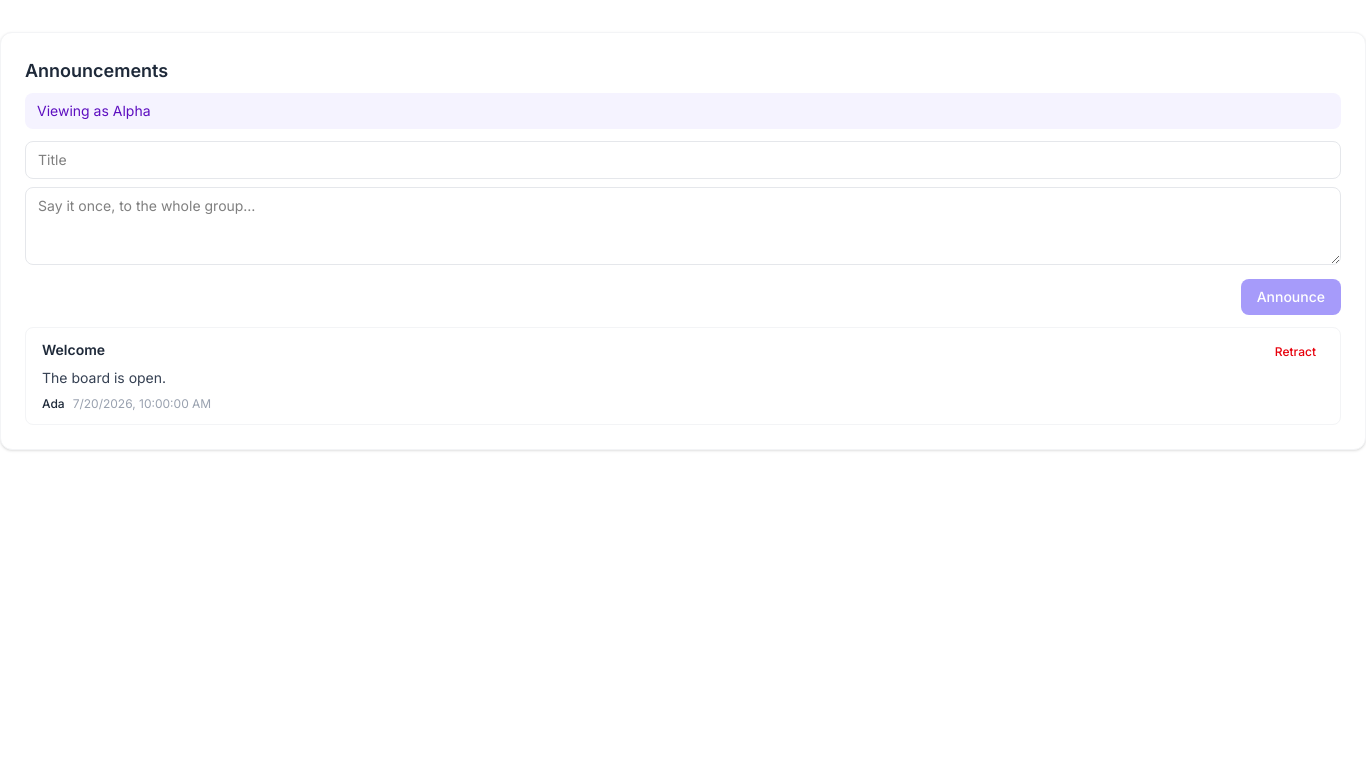
Test: GroupAnnouncementsSection — wielded render (FEAT-H048) › S2: a wielded announce confirms naming the wielding, then sends with the acting group
Expected: the heading "Welcome" is shown, [42,340,105,360]
Type "From Alpha" into the field with test id "announcement-compose-title" at (683, 160), box [25,141,1341,179]
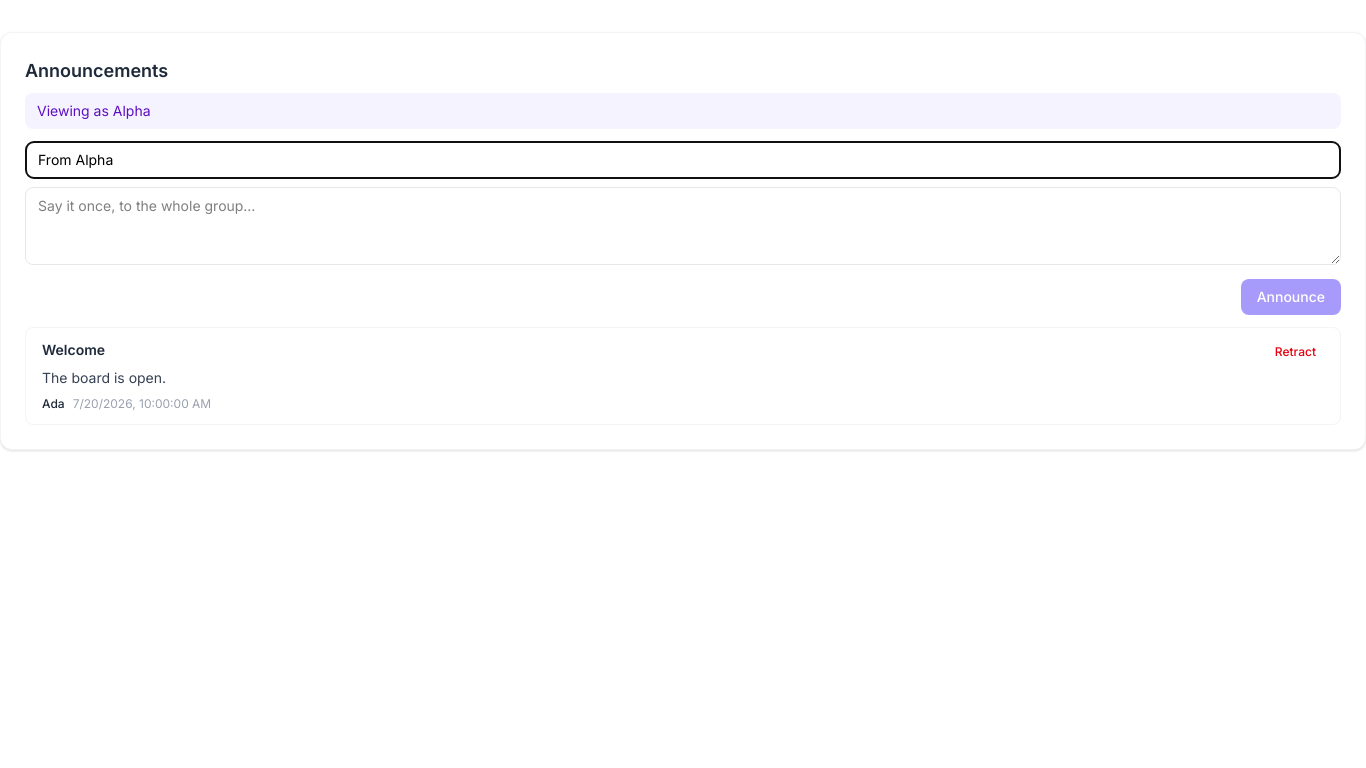
Type "Hello all." into the text box with test id "announcement-compose-body" at (683, 226), box [25,187,1341,265]
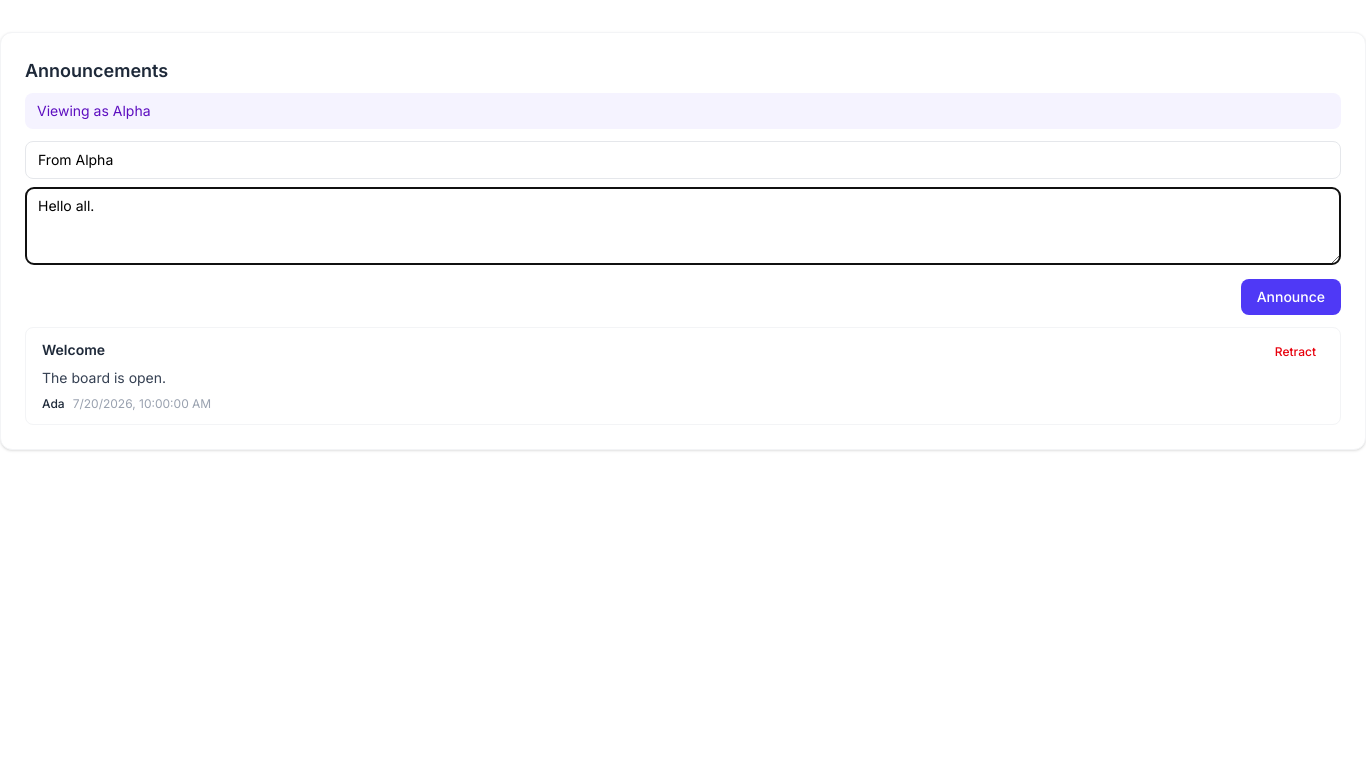
Click the button with test id "announcement-send" at (1291, 297), box [1241,279,1341,315]
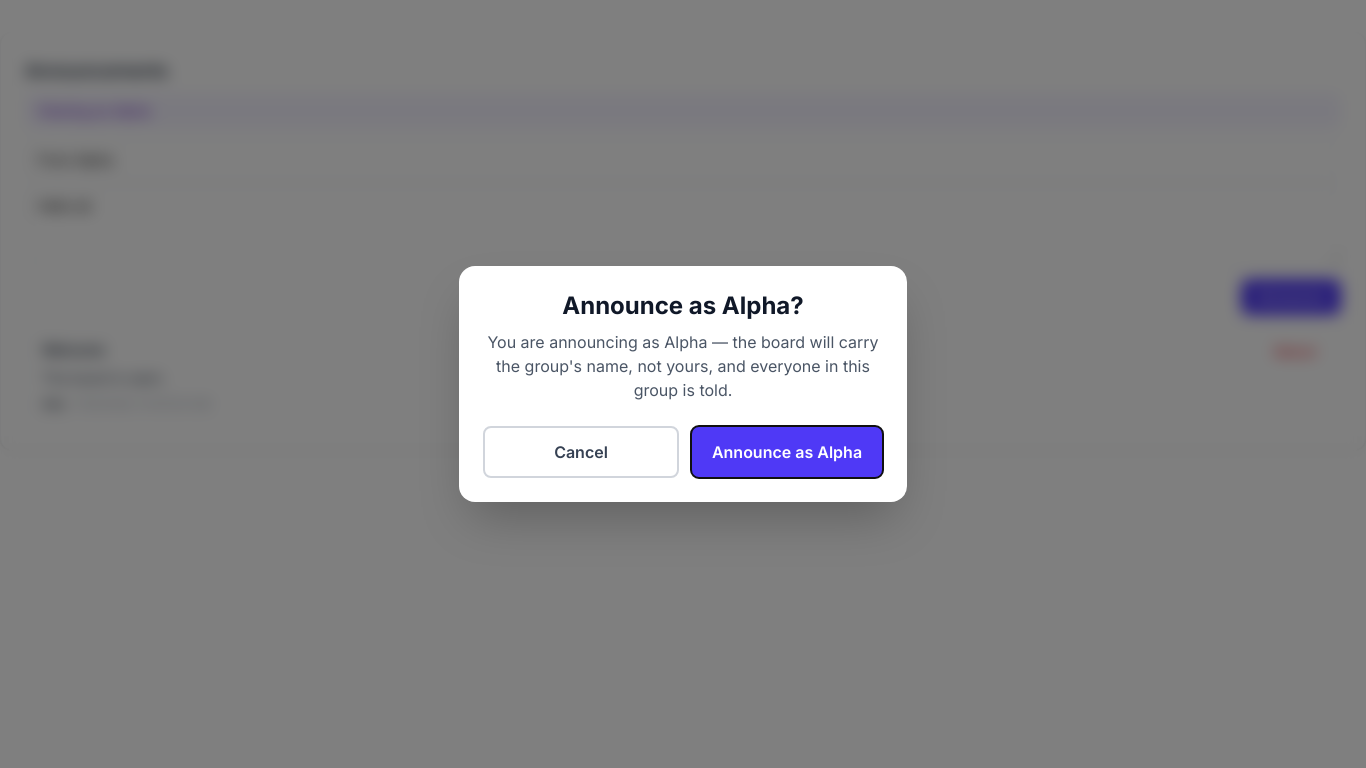
Now the text "You are announcing as Alpha" is shown, box [487,332,879,400]
Click the button "Announce as Alpha" at (787, 452), box [691,426,883,478]
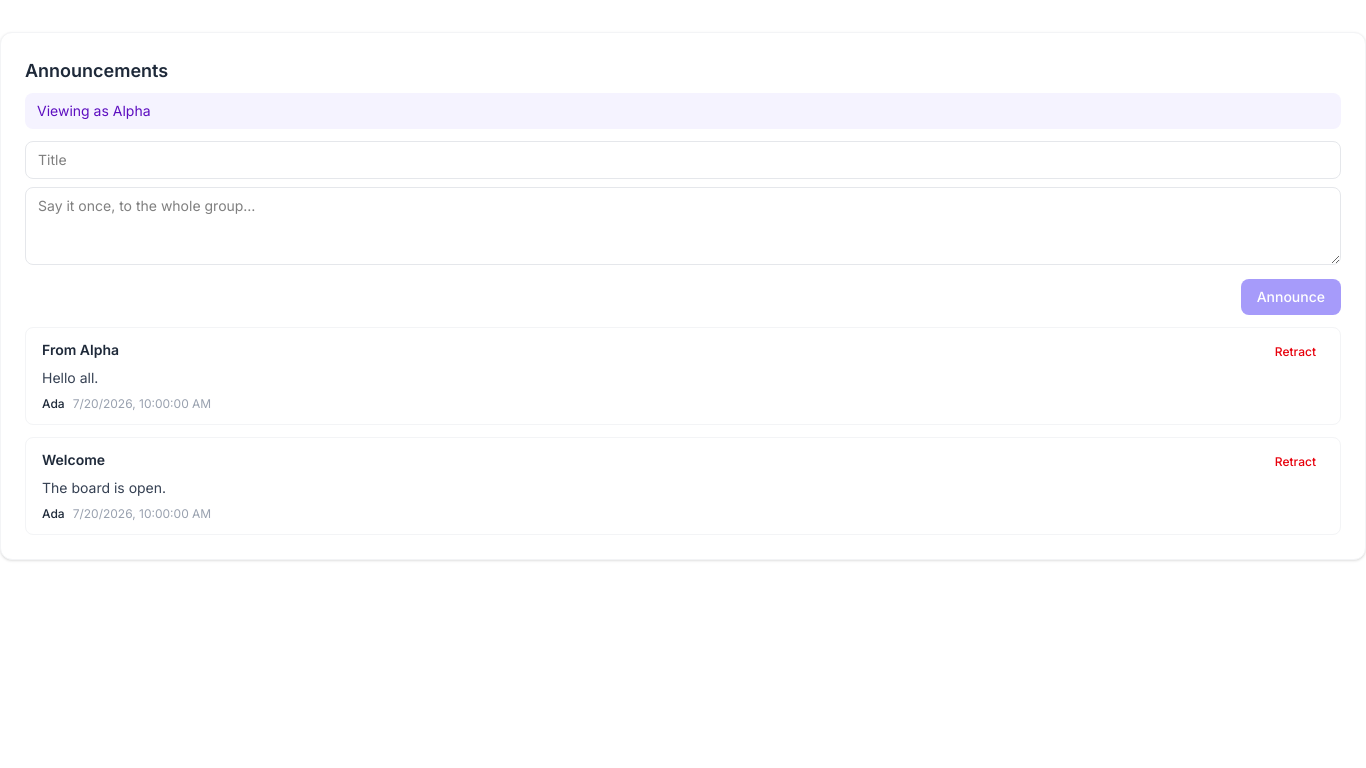
Now the heading "From Alpha" is shown, box [42,340,119,360]
